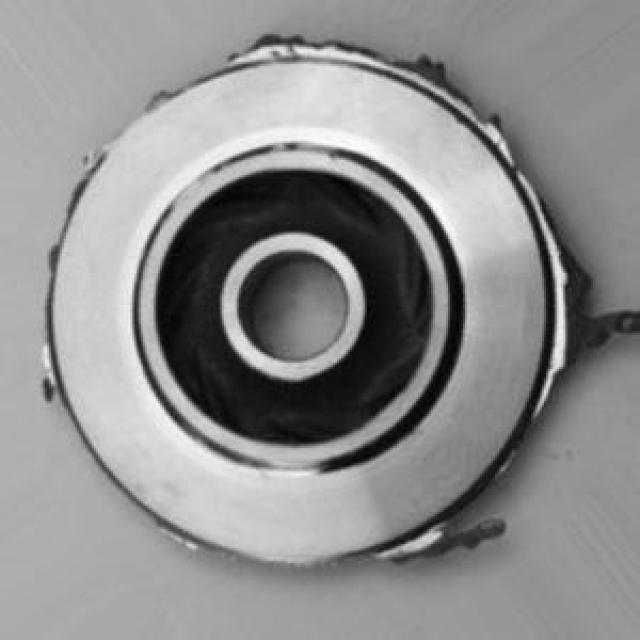Defect: (250, 16, 330, 70), (561, 262, 599, 361)
